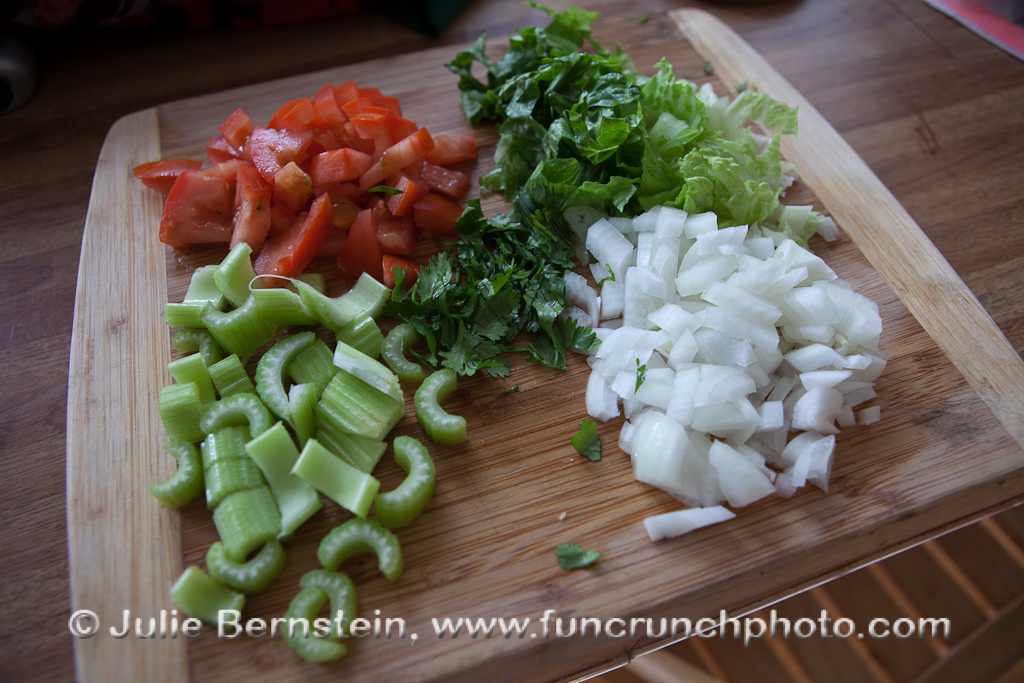chopped lettuce: (458, 37, 843, 332)
